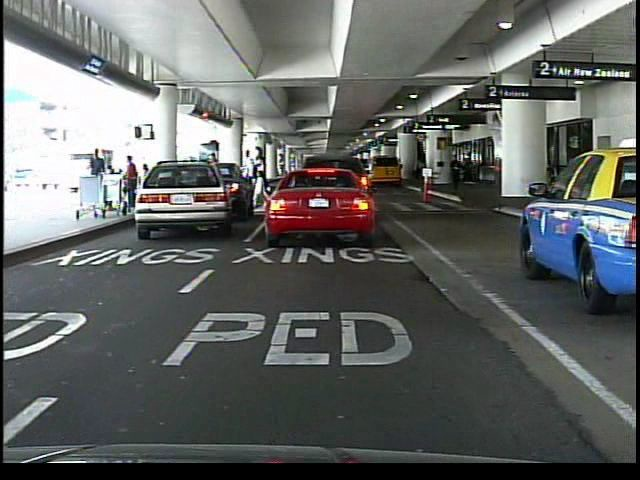person: (200, 150, 224, 205), (241, 148, 259, 218), (89, 148, 109, 207), (310, 153, 328, 203), (450, 153, 463, 190)
